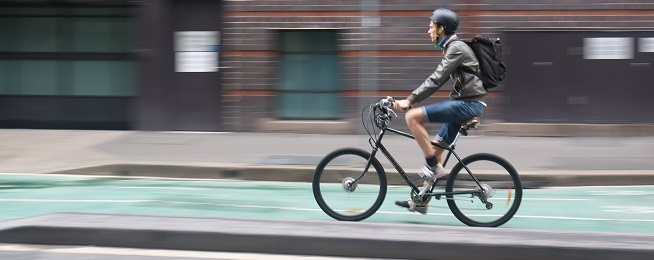commuter: (313, 6, 526, 229)
